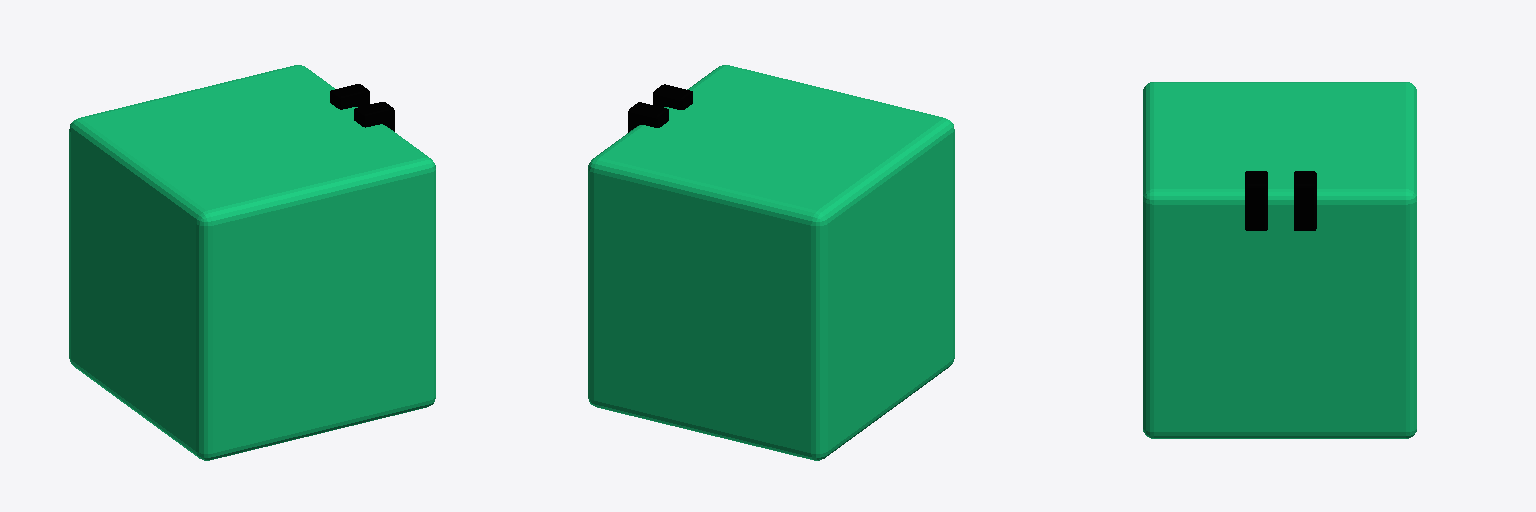
Rendered from gcube.obj.
3 views of the same model, side by side, from view 1: azimuth 30°, elevation 25°; view 2: azimuth 150°, elevation 25°; view 3: azimuth 270°, elevation 25° (orthographic).
Visible parts, largest first — view 1: gcube_Cube.002; view 2: gcube_Cube.002; view 3: gcube_Cube.002.
Part boxes in pixels (x1,y1,x2,y2): gcube_Cube.002: (69, 65, 435, 460); gcube_Cube.002: (588, 65, 954, 460); gcube_Cube.002: (1143, 82, 1416, 438).
Bounding box in the file's own units: 1.01 × 1.03 × 0.9785.